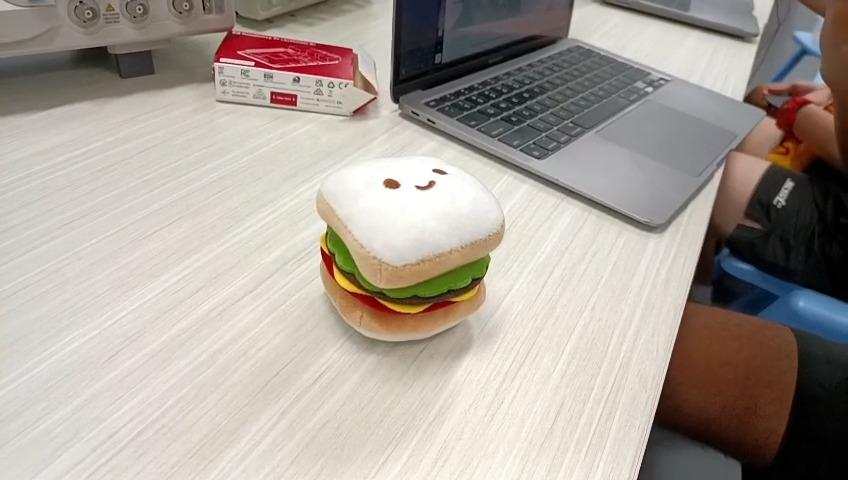objects: (317, 154, 508, 348)
